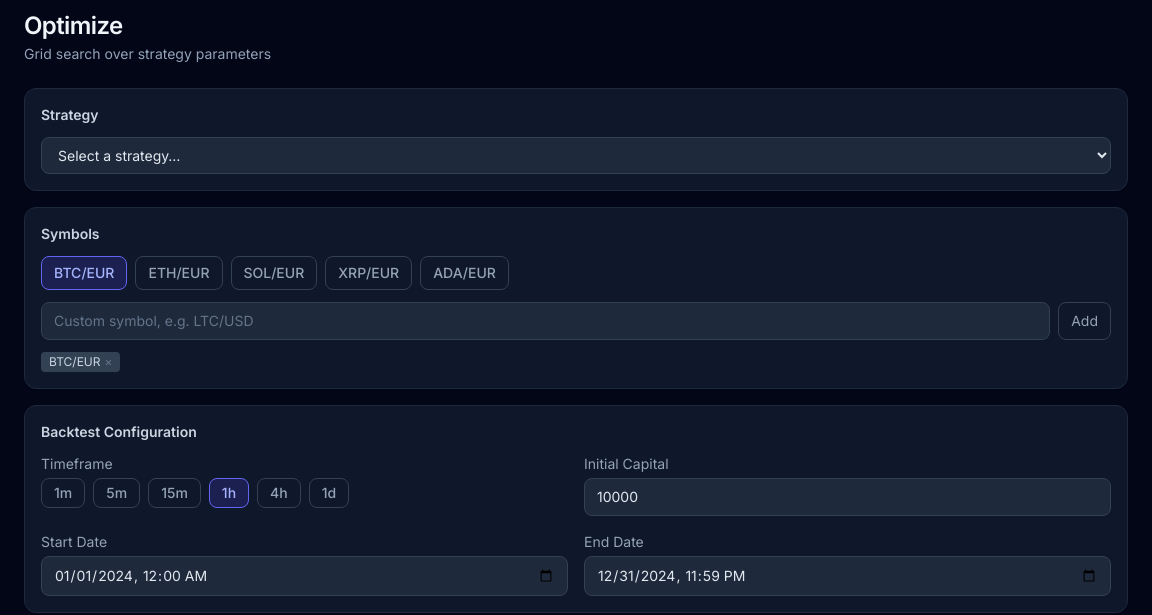
it: OptimizePage — structured 422 rendering (CF-13a-1 item 2) › renders exit_manager_required for a momentum grid with no bracket keys
The image size is (1152, 615).
Select "momentum_breakout" in the 1st dropdown at (576, 156), box [41,137,1111,174]
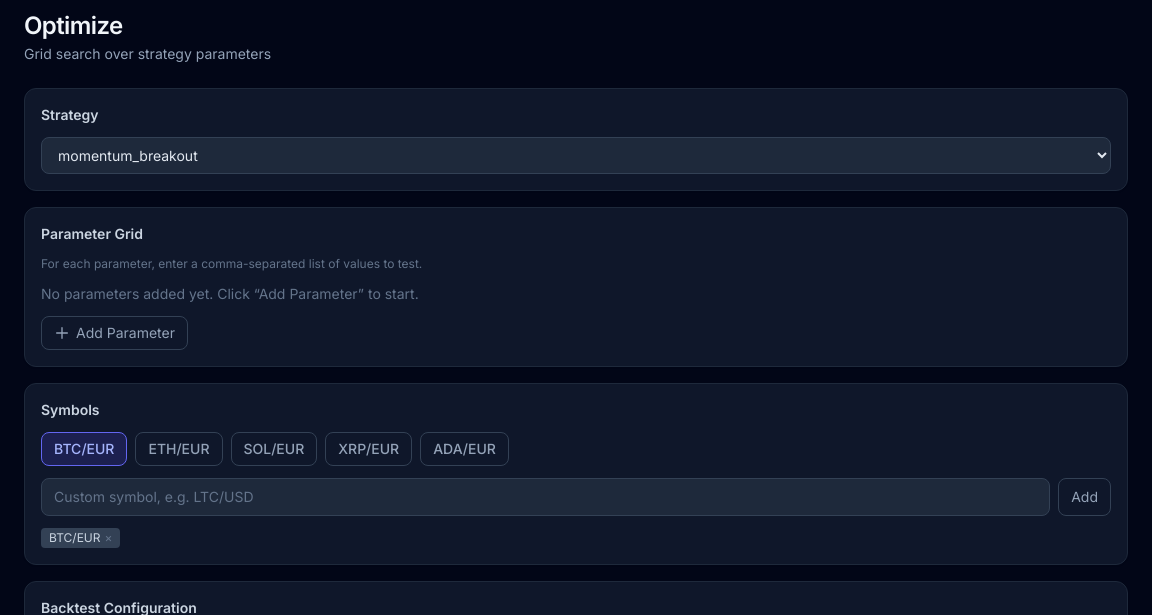
Result: the button "Add Parameter" is enabled
Click the button "Add Parameter" at (114, 333), box [41,316,188,350]
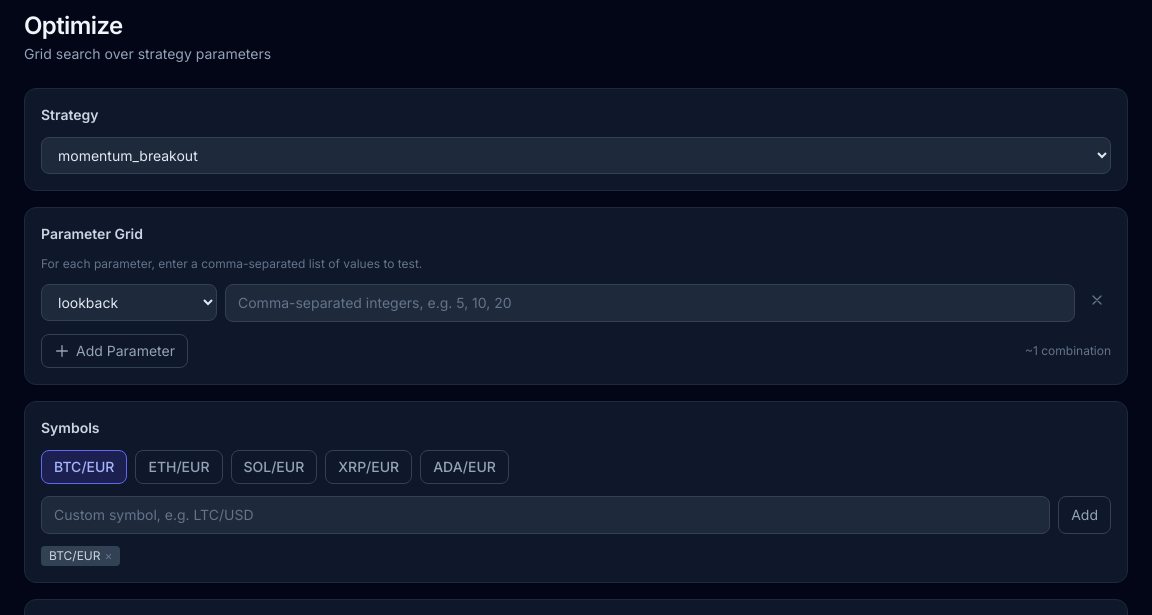
Type "5, 10" into the field with placeholder "Comma-separated integers, e.g. 5, 10, 20" at (650, 303), box [225,284,1075,322]
(page scrolled)
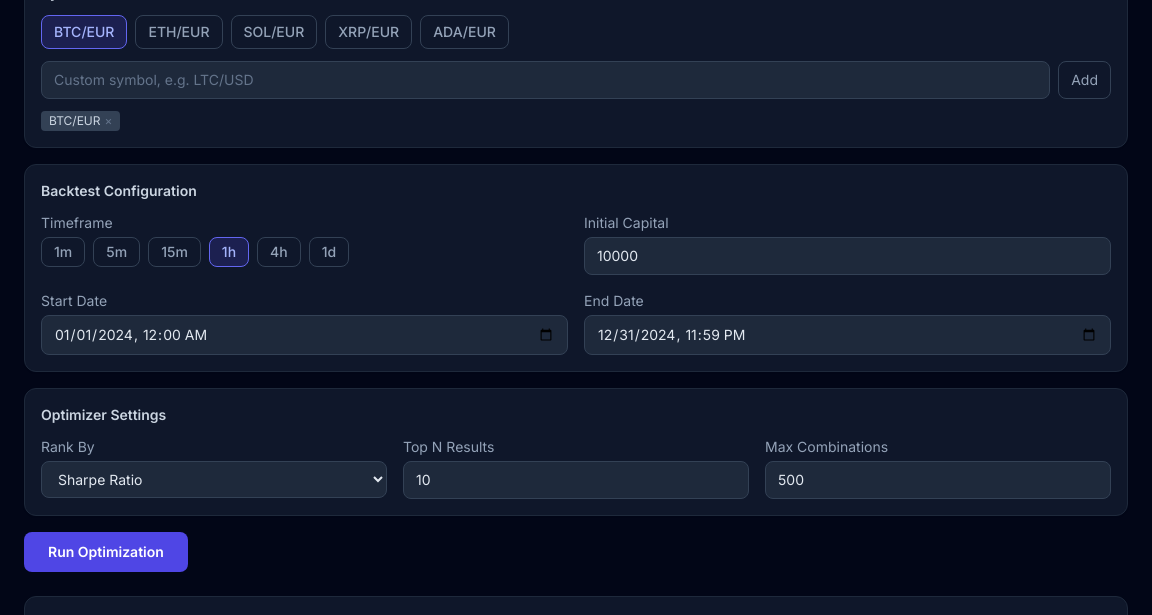
Click the button "Run Optimization" at (106, 552), box [24,532,188,572]
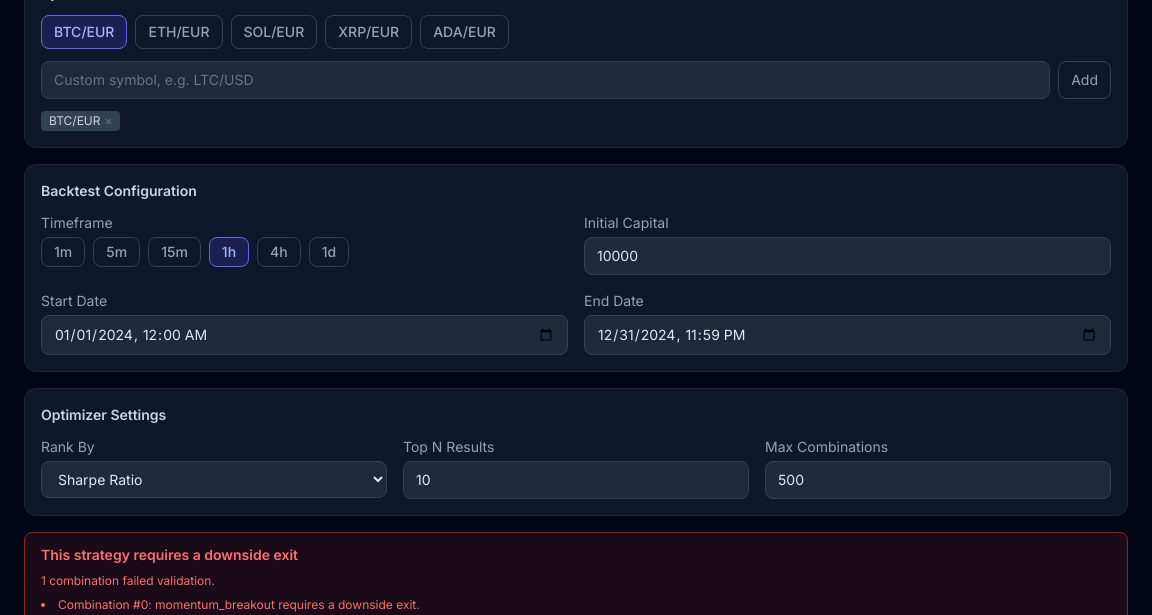
Result: the text "This strategy requires a downside exit" is shown at [41,546,298,563]
